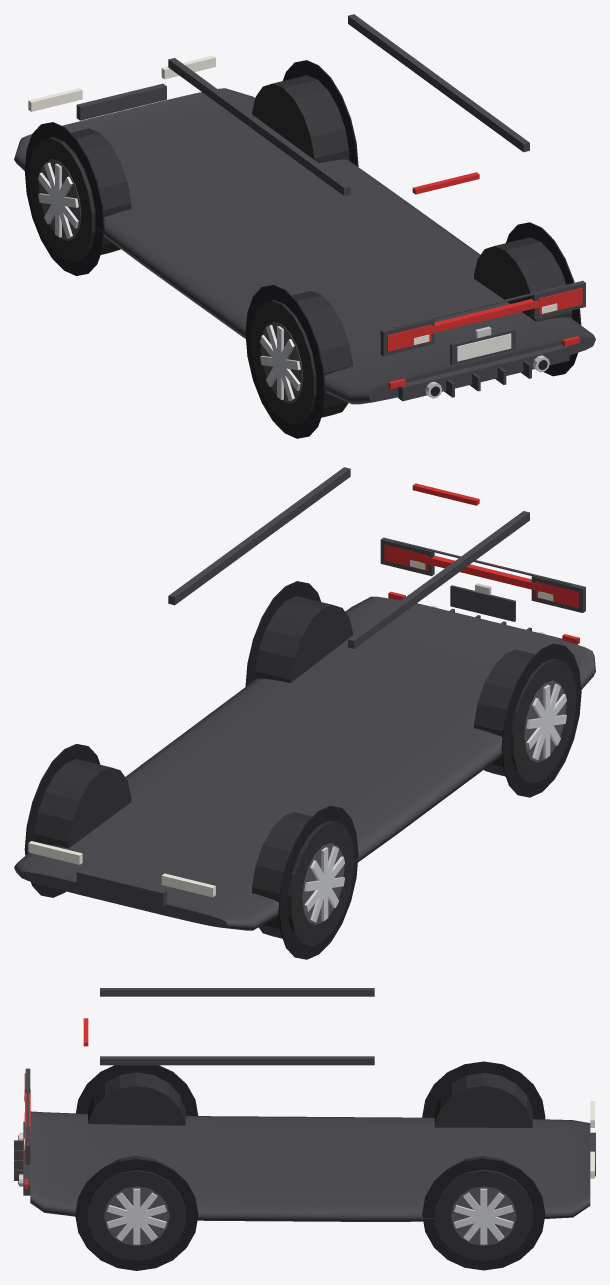
The model's file is suv_trim.glb.
3 renders of one model, top to bottom at view 1: azimuth 30°, elevation 25°; view 2: azimuth 150°, elevation 25°; view 3: azimuth 270°, elevation 25°, orthographic. The views are drawn at different scales.
Bounding box in the file's own units: 2.1 × 1.89 × 5.03.
